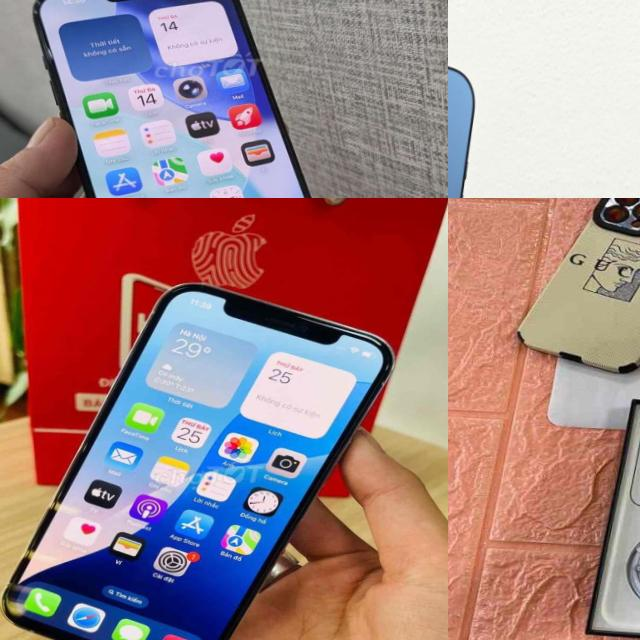gen_12_13: (0, 271, 399, 640)
gen_15: (5, 0, 352, 198)
